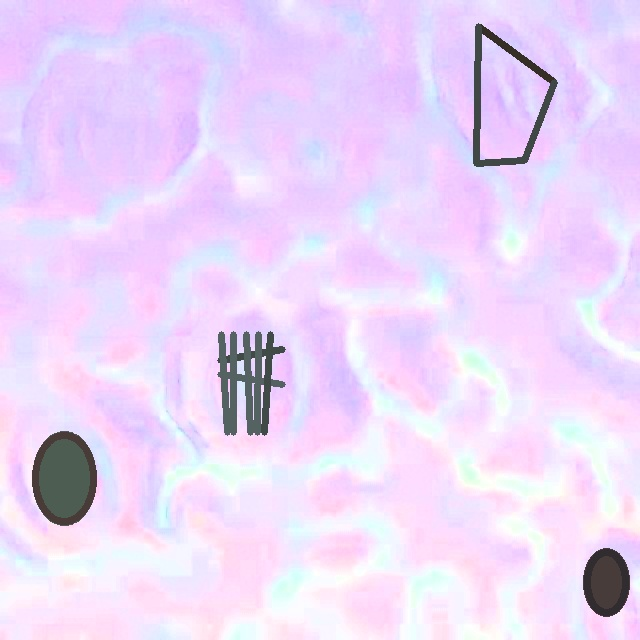close: (583, 548, 629, 615)
open: (473, 24, 557, 163), (218, 332, 284, 434), (32, 431, 96, 526)
